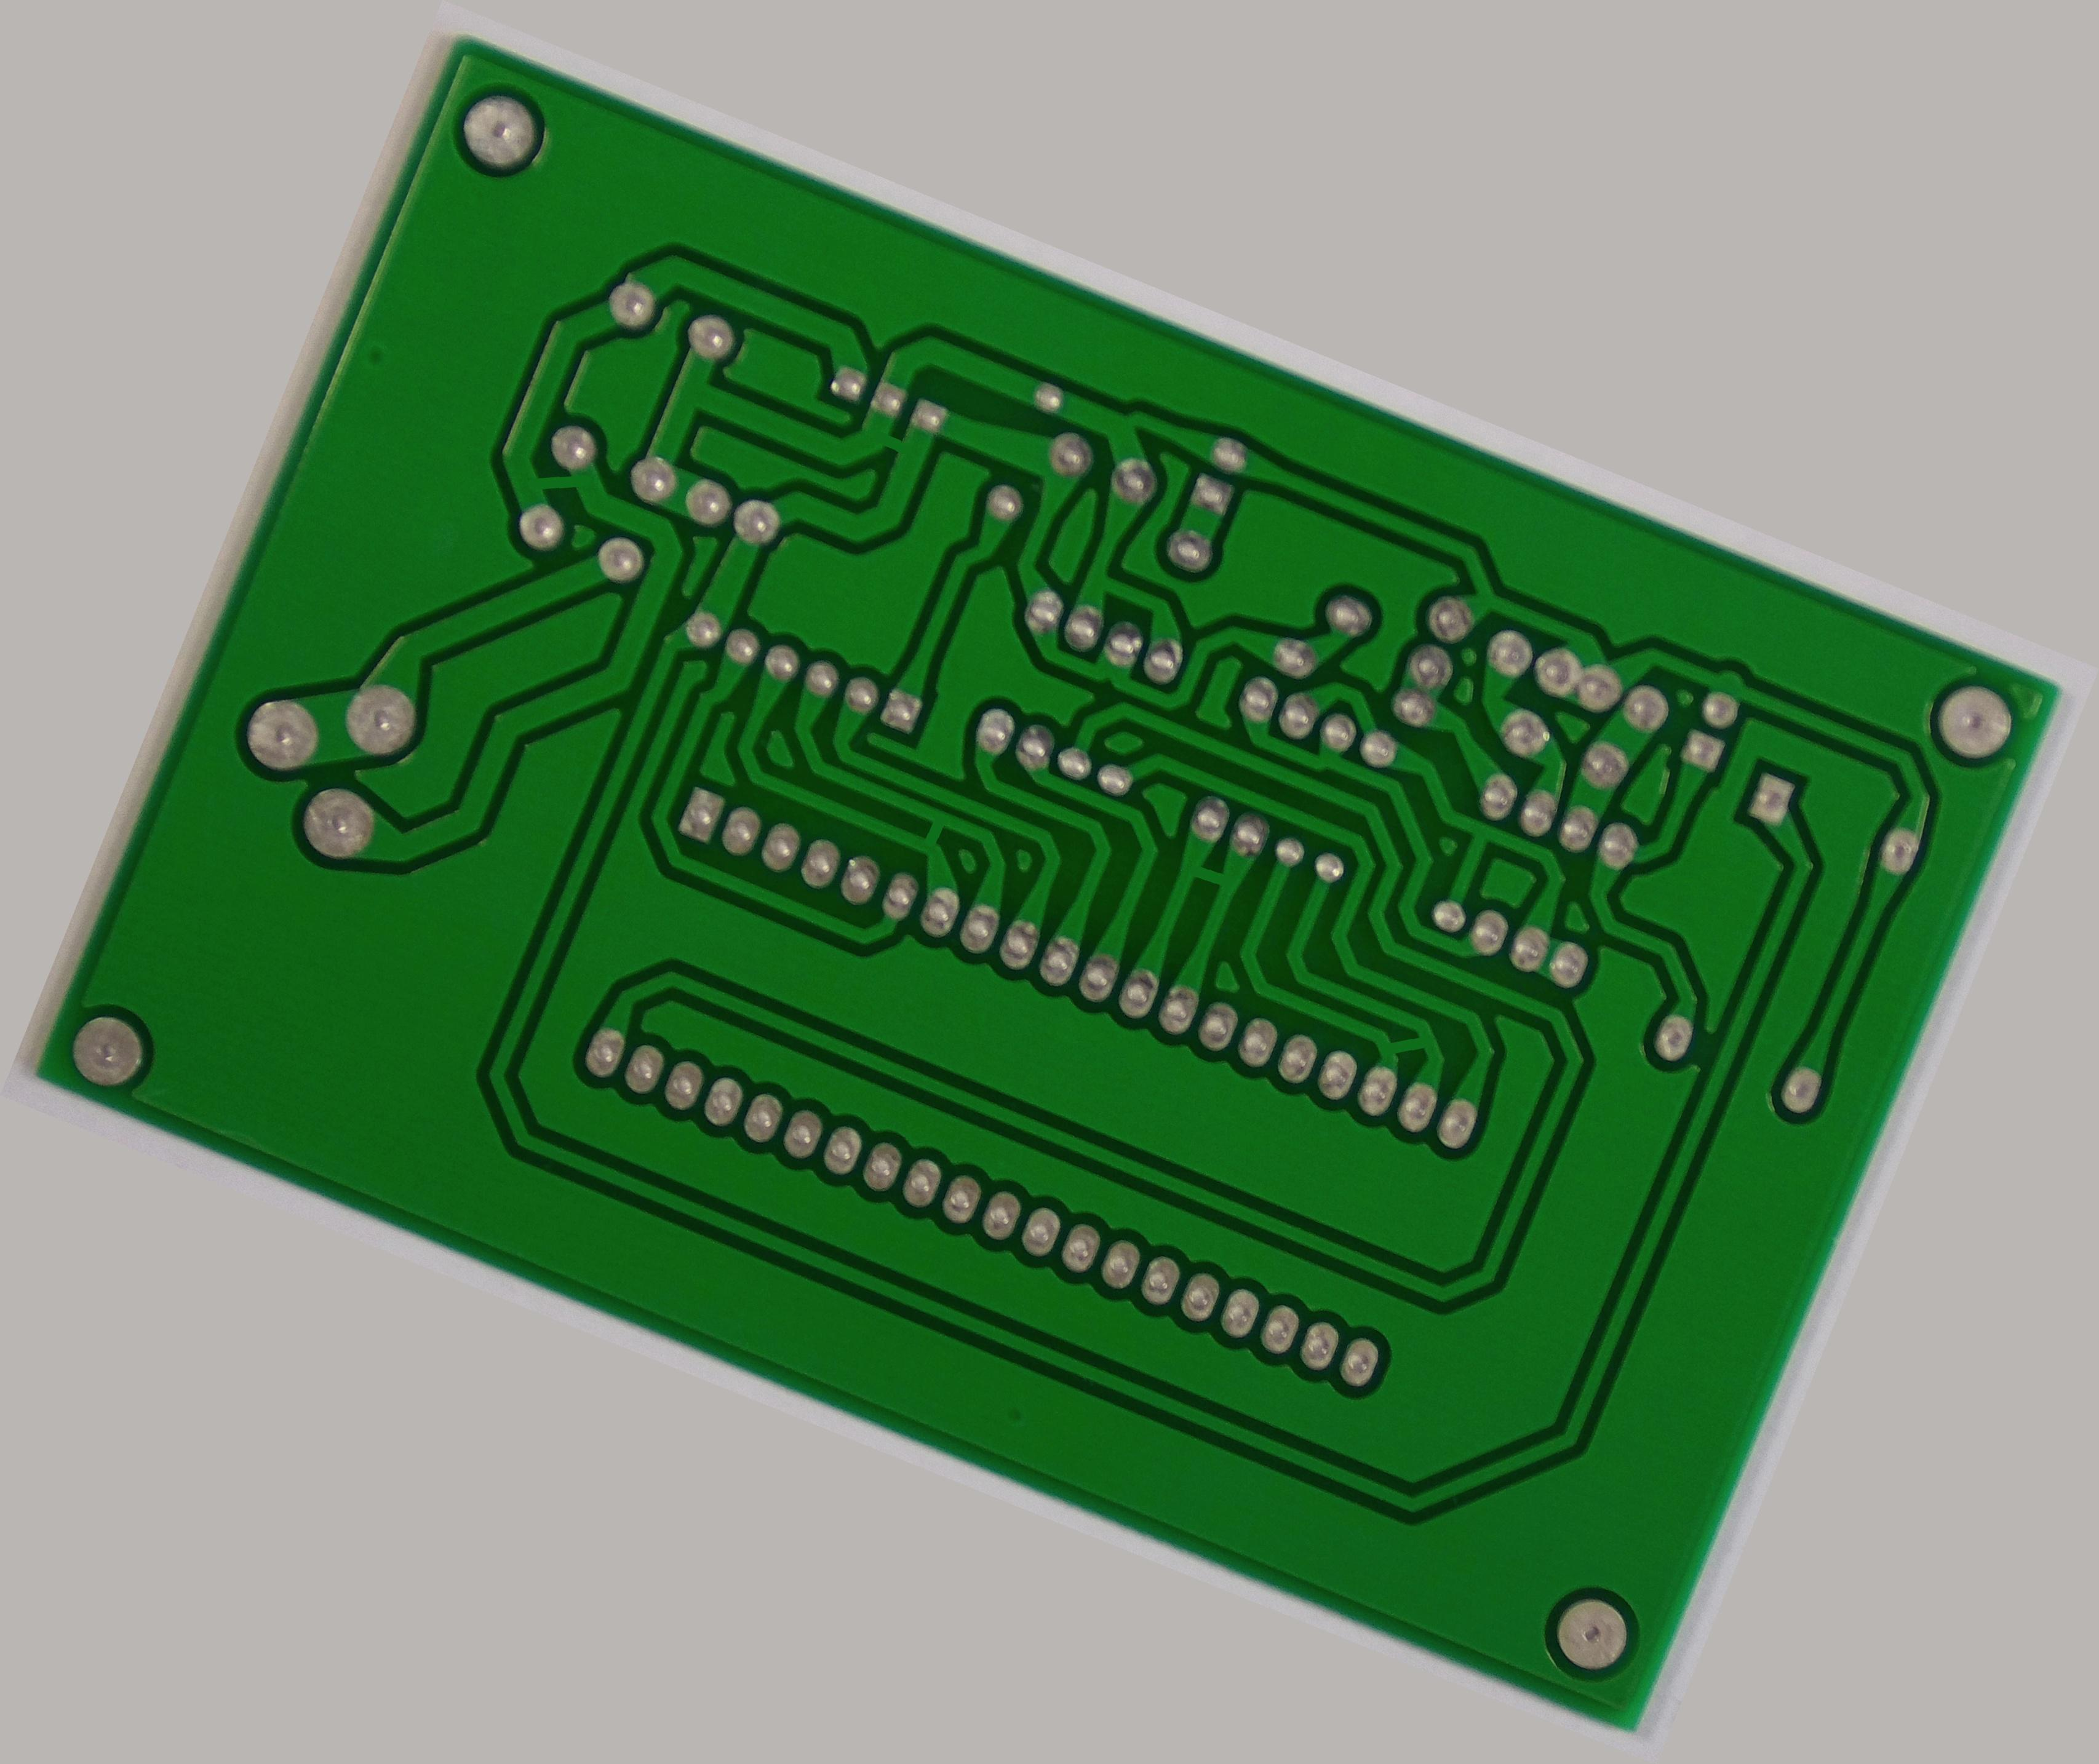short: (501, 436, 604, 523), (1357, 999, 1453, 1085), (889, 793, 975, 868), (849, 406, 933, 481), (1168, 843, 1248, 913)
